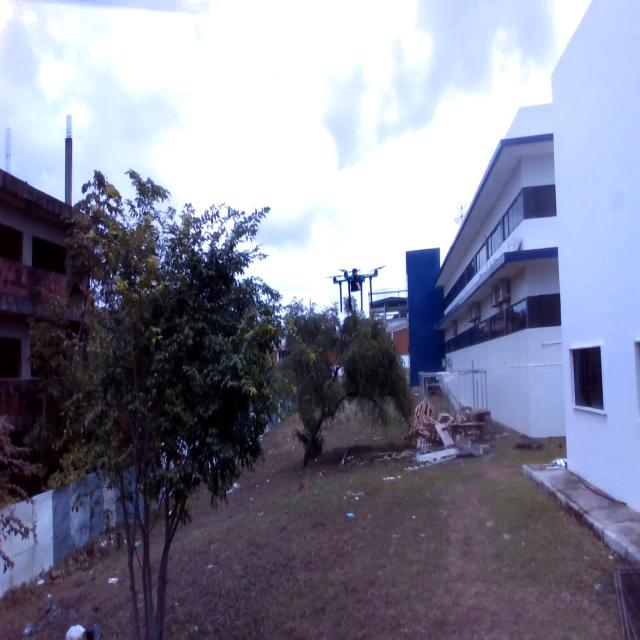-uav-: (324, 253, 384, 316)
